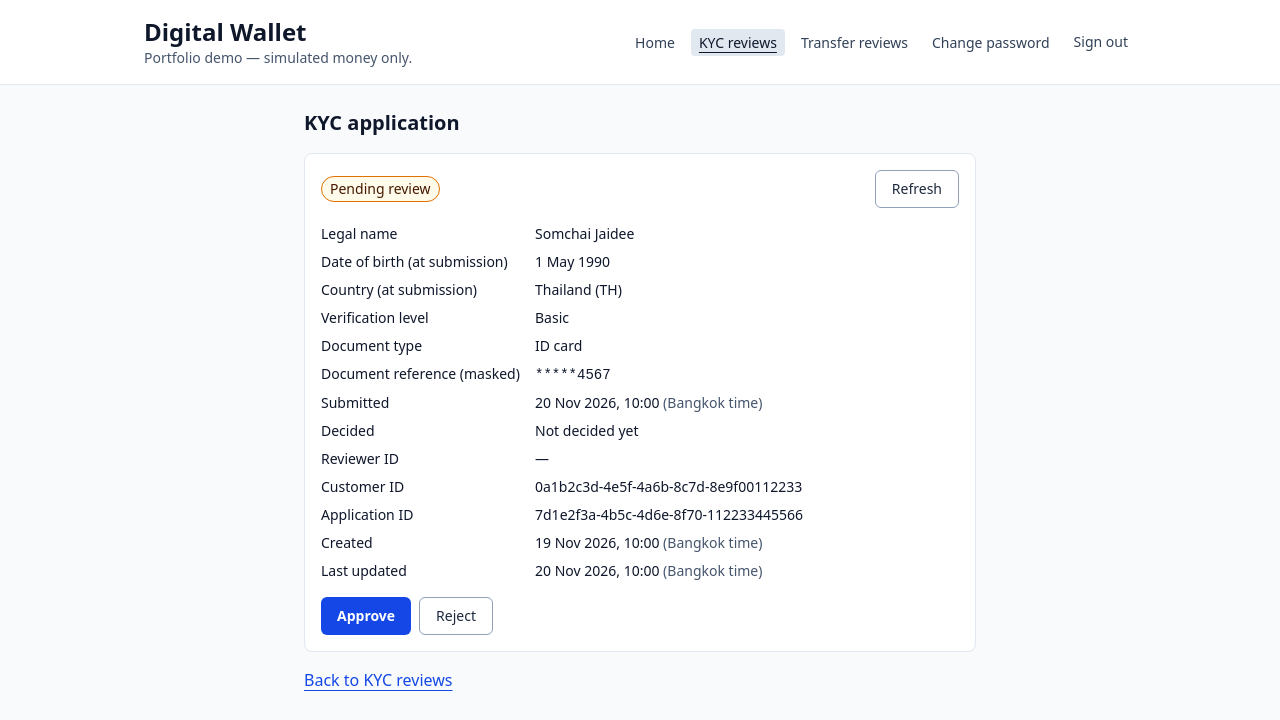
Test: KYC application detail › refreshes on the button
This screenshot has width=1280, height=720.
expect the text "Pending review" is shown: met, box [321,176,440,202]
What coordinates should you click on to do the following:
click the button "Refresh"
I would click on:
 (917, 189)
Its box is [875,170,959,208].
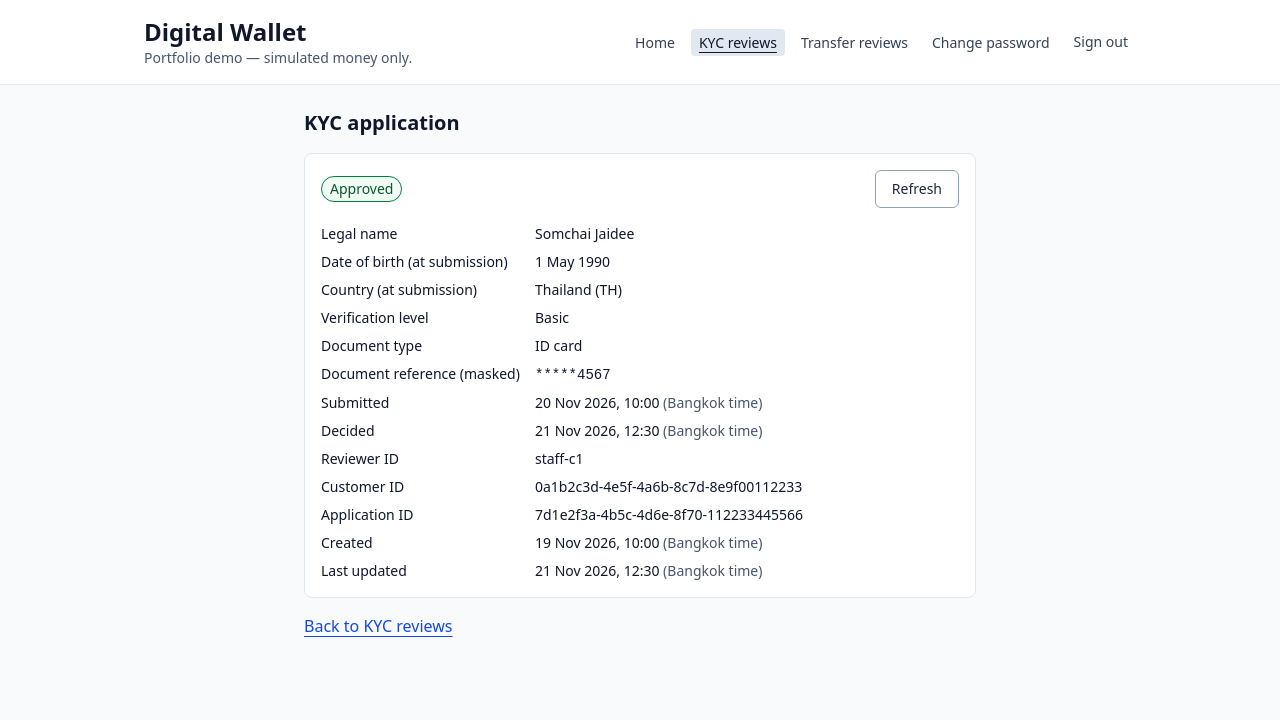
expect the text "Approved" is shown: met, box [321,176,402,202]
